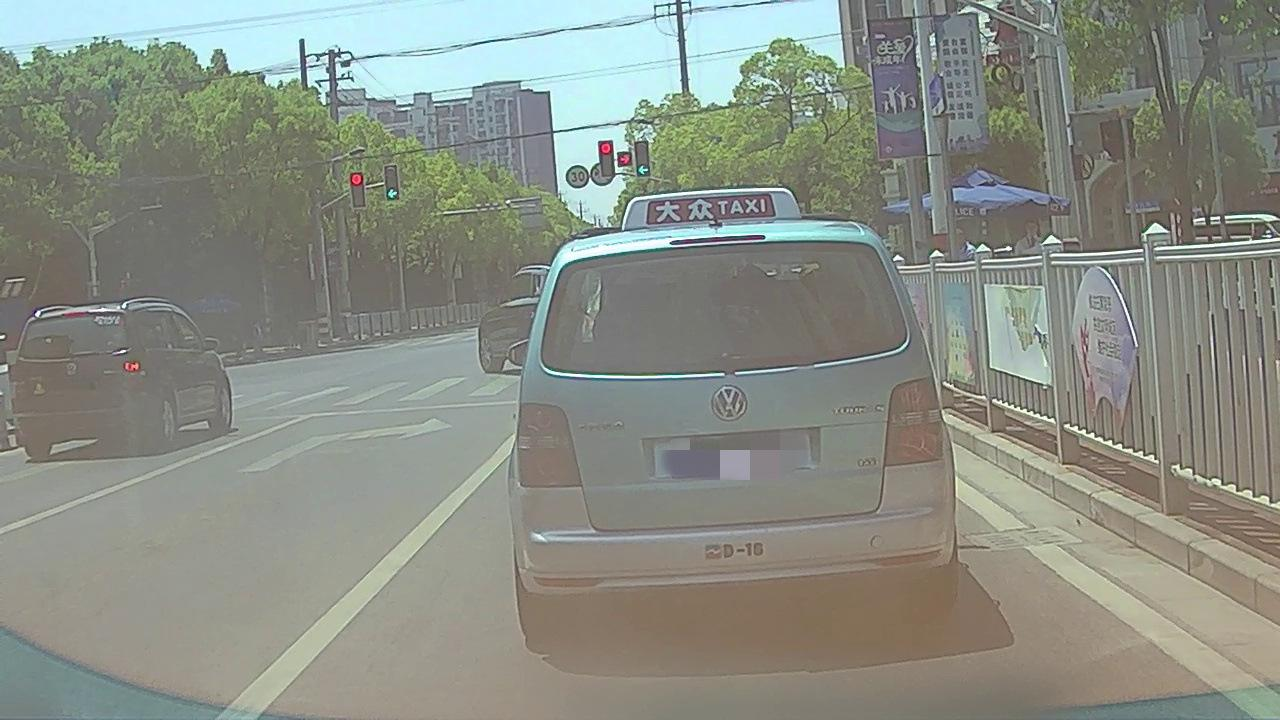traffic_light: (598, 141, 616, 177), (349, 173, 365, 208), (384, 166, 400, 201), (635, 141, 650, 177), (617, 152, 632, 167)
